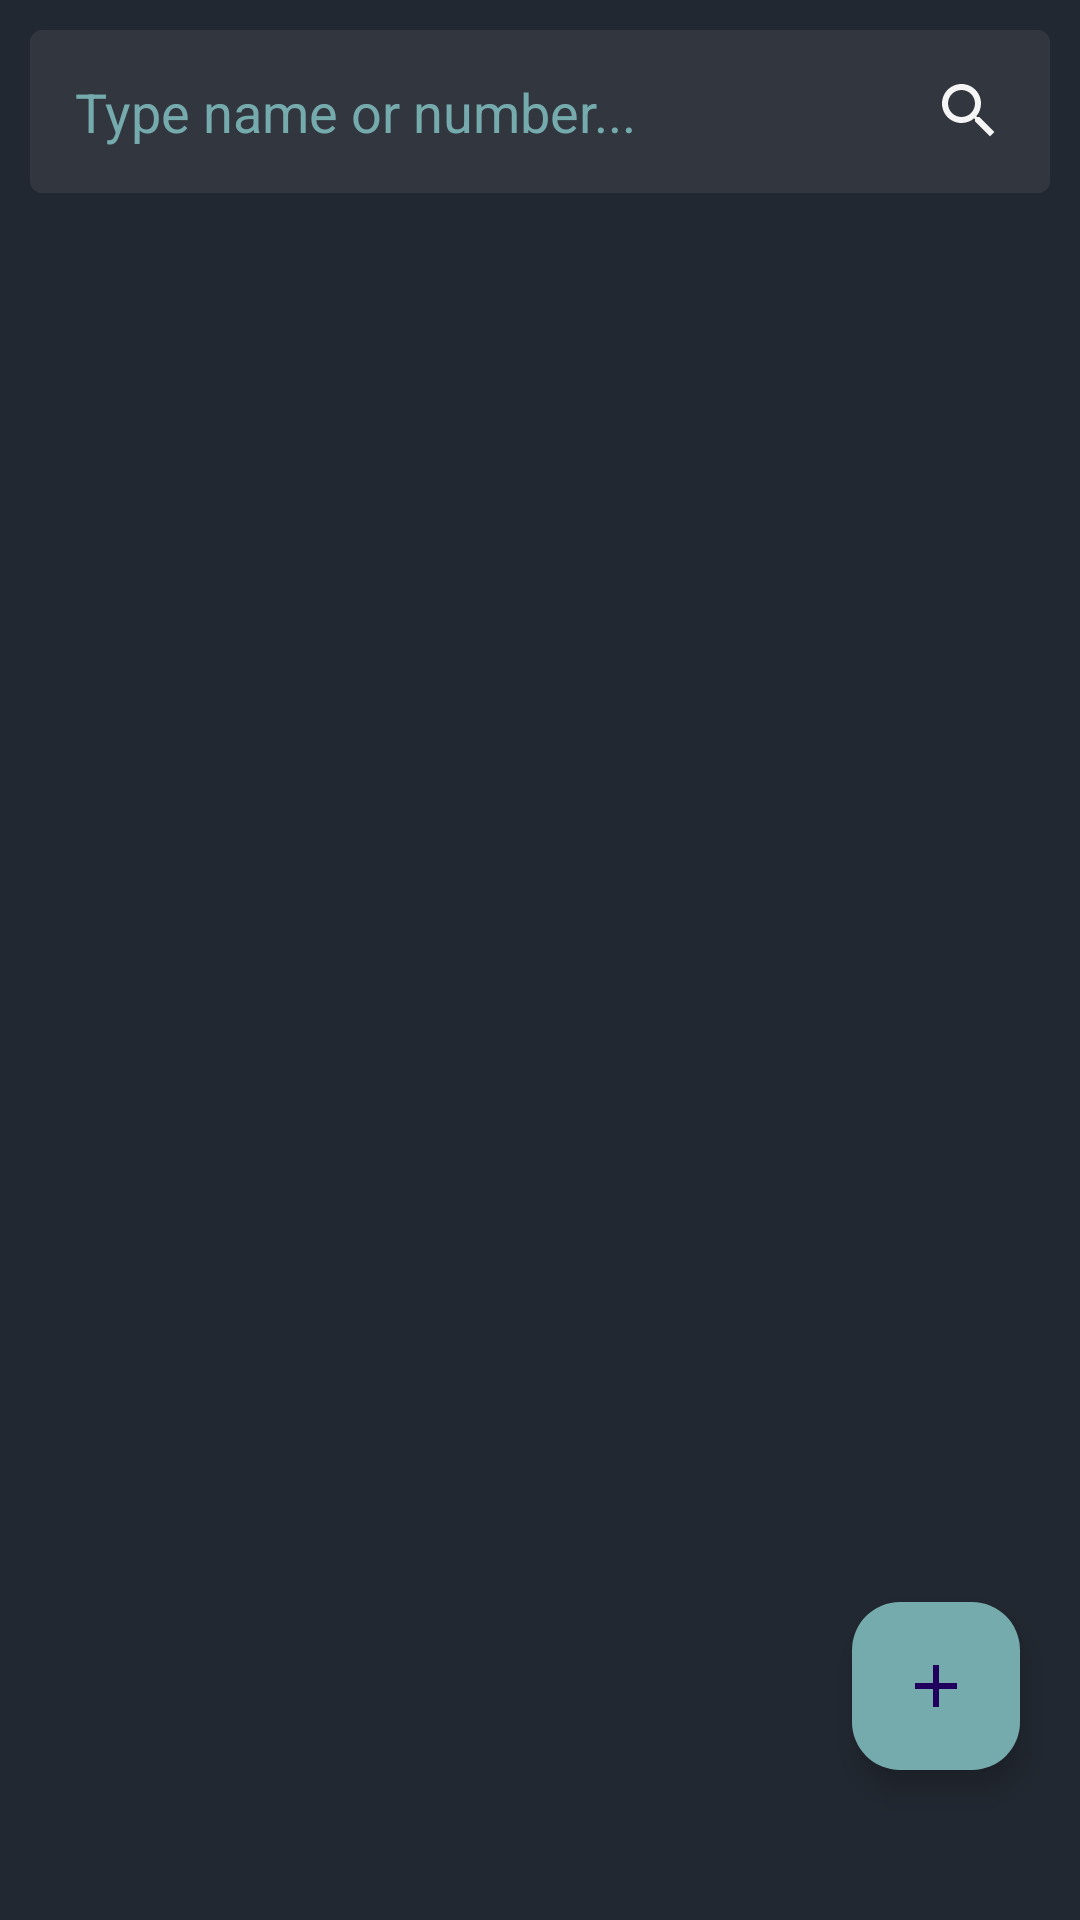

Where icons sit on this 1080*1920 app screen, as (x1, y1, x2, y2):
add: (852, 1602, 1020, 1770)
